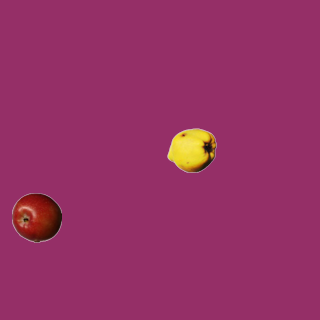Apple Braeburn: (11, 192, 61, 242)
Quince: (166, 125, 216, 175)
